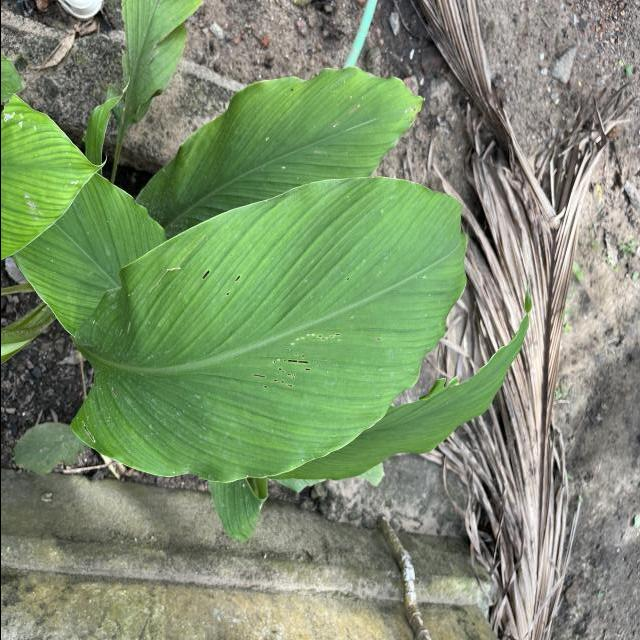Curcuma longa: (65, 173, 472, 489), (132, 64, 429, 240)
